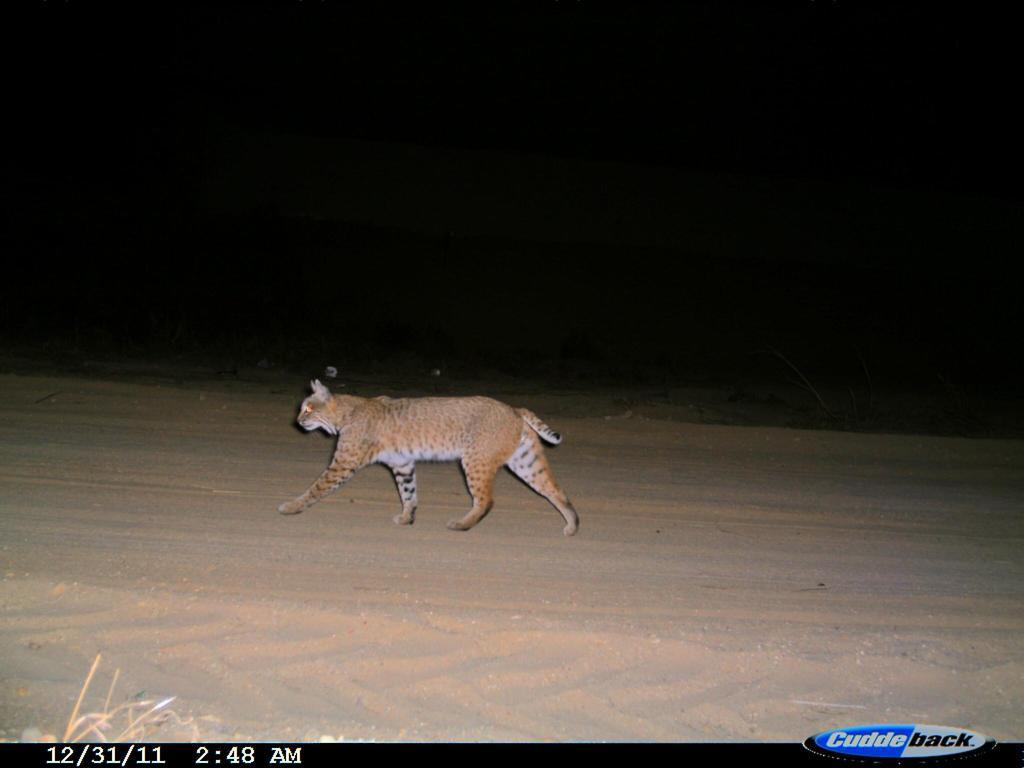bobcat: (271, 372, 591, 546)
